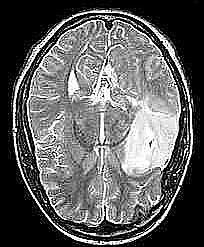Tumor: (123, 100, 178, 182)
